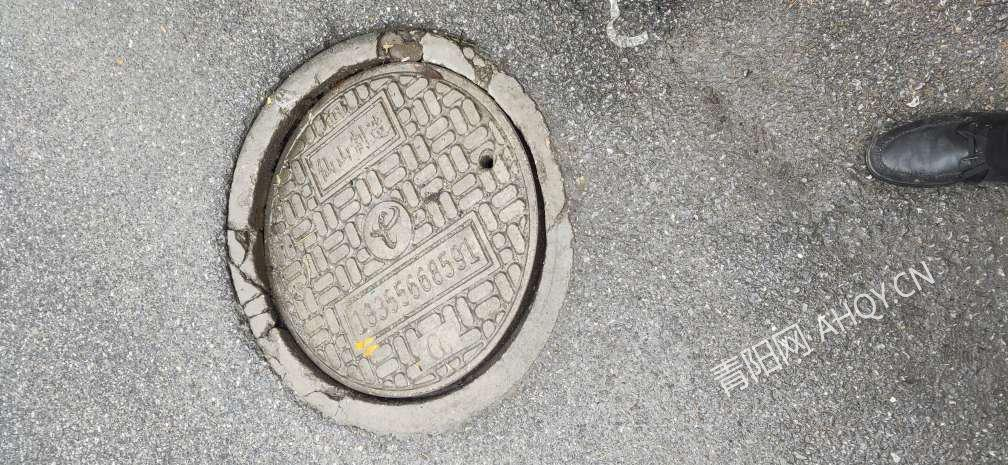circle: (164, 19, 602, 447)
